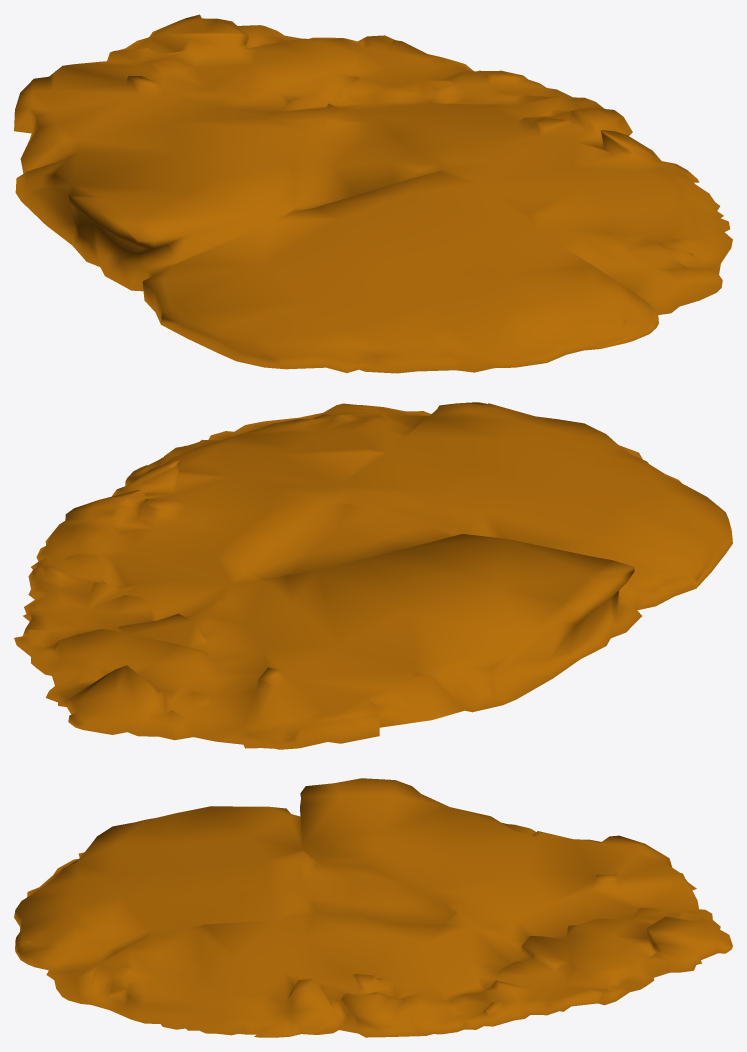
Rendered from Mesh_Ground_06_AG.FBX.
3 views of the same model, one above another, from view 1: azimuth 30°, elevation 25°; view 2: azimuth 150°, elevation 25°; view 3: azimuth 270°, elevation 25° (orthographic). The views are drawn at different scales.
Visible parts, largest first — view 1: MESH_LOD0; view 2: MESH_LOD0; view 3: MESH_LOD0.
Boxes of the visible parts, box(x1,y1,x2,y2) form: MESH_LOD0: box(14, 14, 732, 373); MESH_LOD0: box(14, 402, 732, 749); MESH_LOD0: box(14, 778, 732, 1037).
Size of what is drawn, in the model's own units: 43.89 by 4.19 by 60.58.
